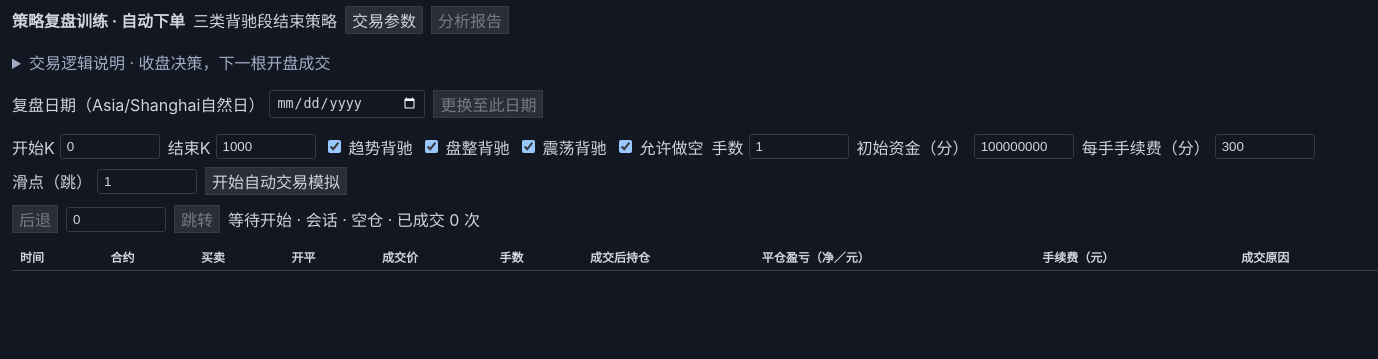
Scenario: online strategy training panel › report is current-prefix account and resets on lookback
Click the button "开始自动交易模拟" at [276, 181], box [205, 167, 347, 195]
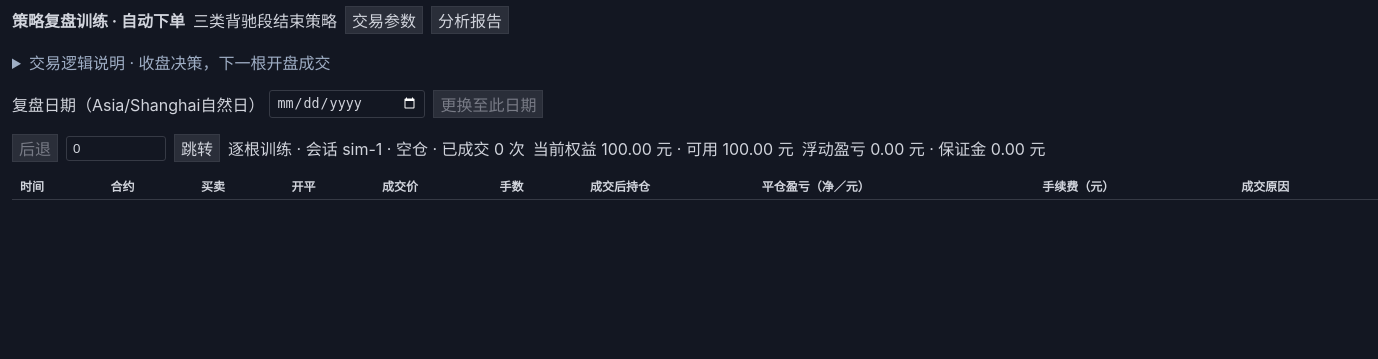
Click the button "分析报告" at [470, 20], box [431, 6, 509, 34]
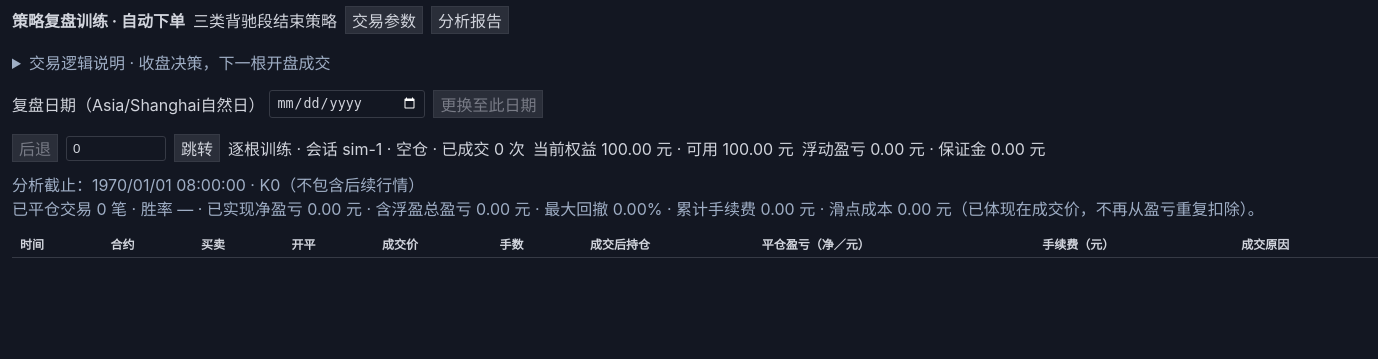
Replace the text in the number field named "模拟跳转K线" with "6" at [116, 148], box [66, 136, 166, 160]
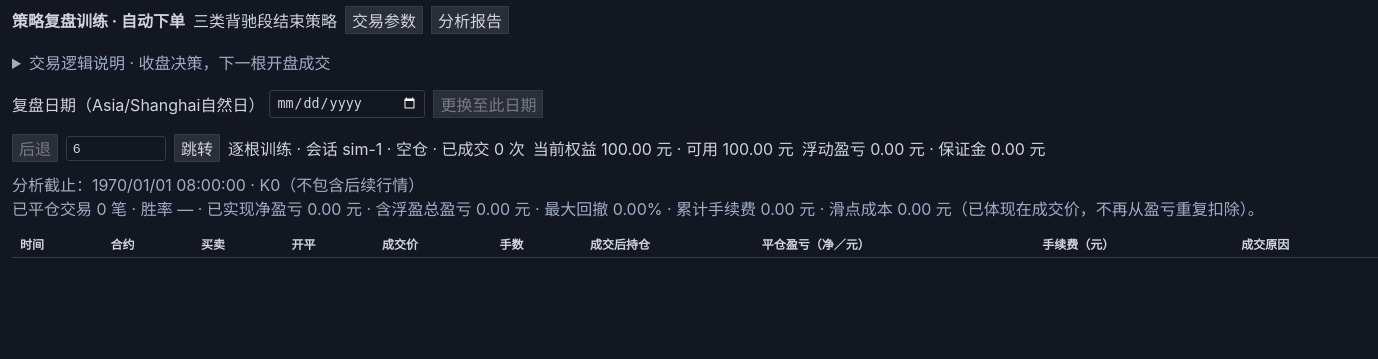
Click the button "跳转" at [197, 148], box [174, 134, 220, 162]
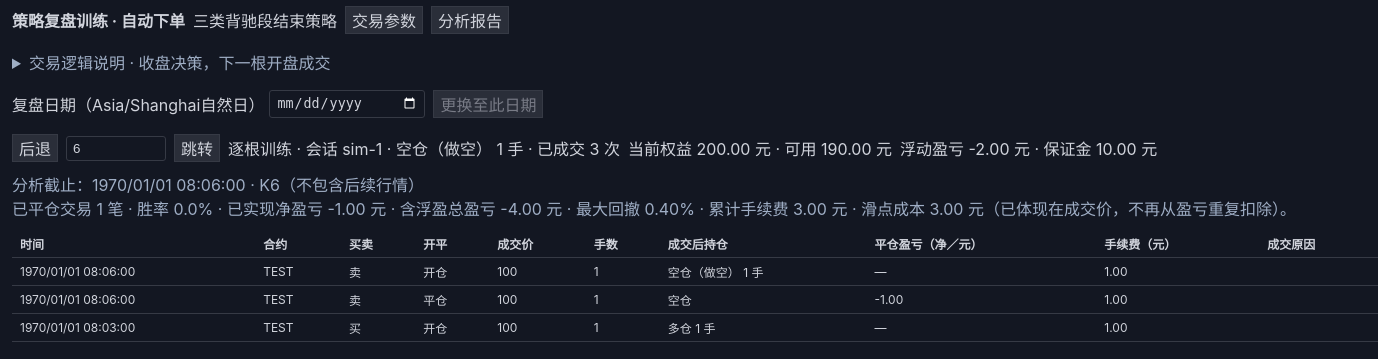
expect the element named "当前复盘训练分析报告" shows "含浮盈总盈亏 -4.00 元": met, box [12, 199, 1296, 219]
Replace the text in the number field named "模拟跳转K线" with "2" at [116, 148], box [66, 136, 166, 160]
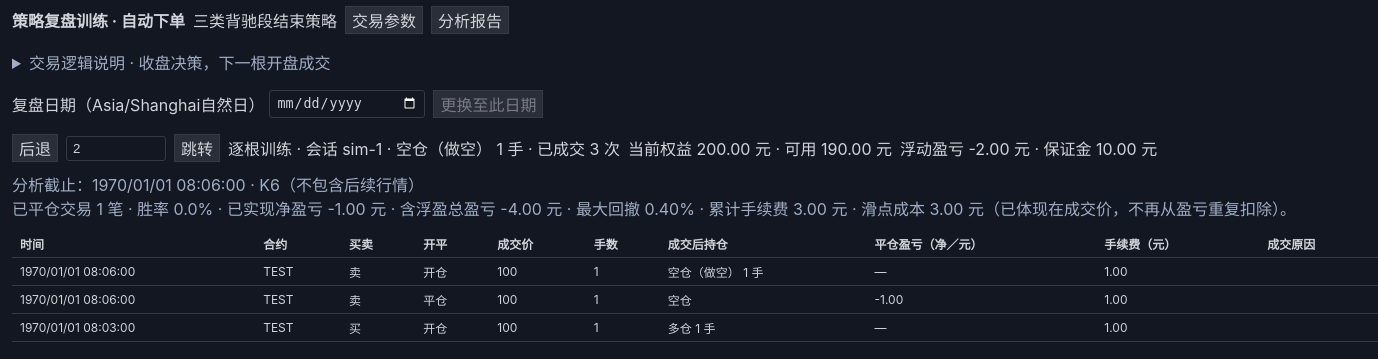
Click the button "跳转" at [197, 148], box [174, 134, 220, 162]
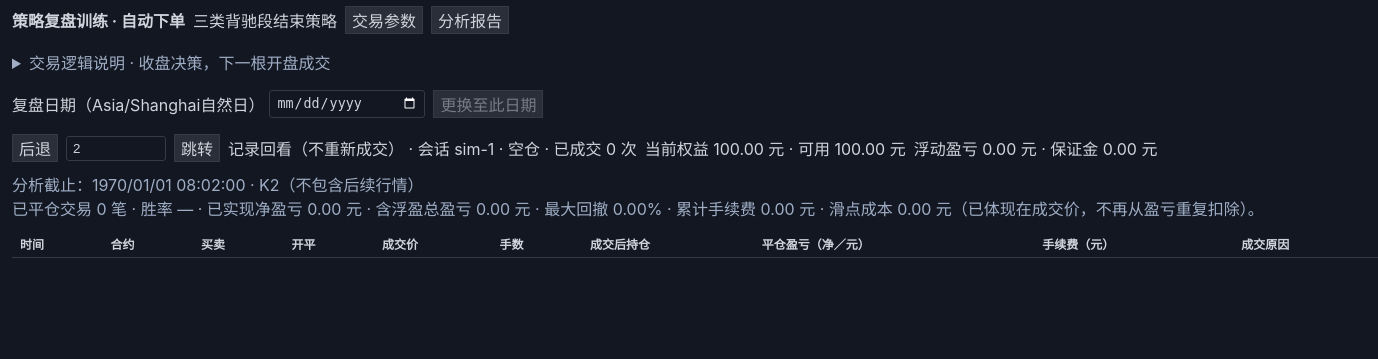
expect the text named "当前复盘训练分析报告" no longer shows "-4.00": met
